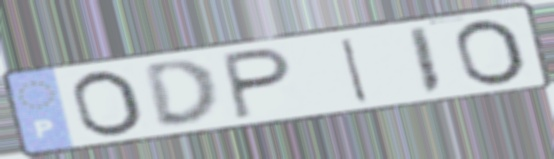D: (139, 56, 223, 129)
I: (405, 24, 446, 98), (338, 34, 373, 106)
O: (451, 18, 531, 90), (68, 69, 148, 141)
P: (219, 45, 295, 122)
